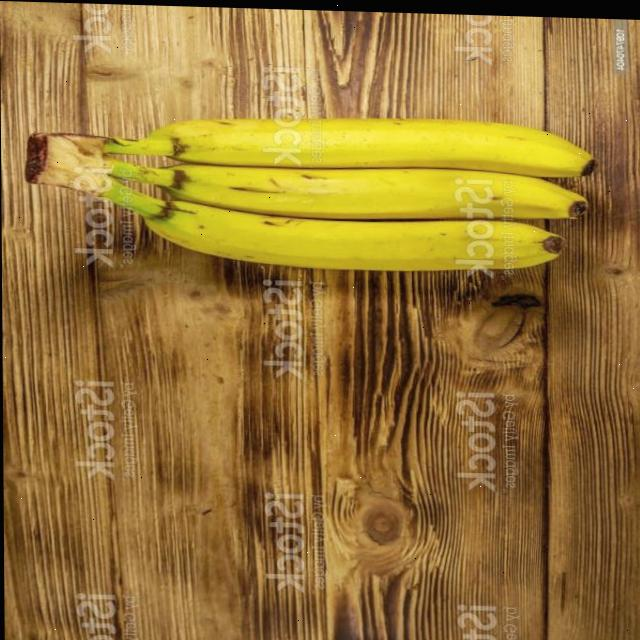banana: (14, 104, 606, 280)
